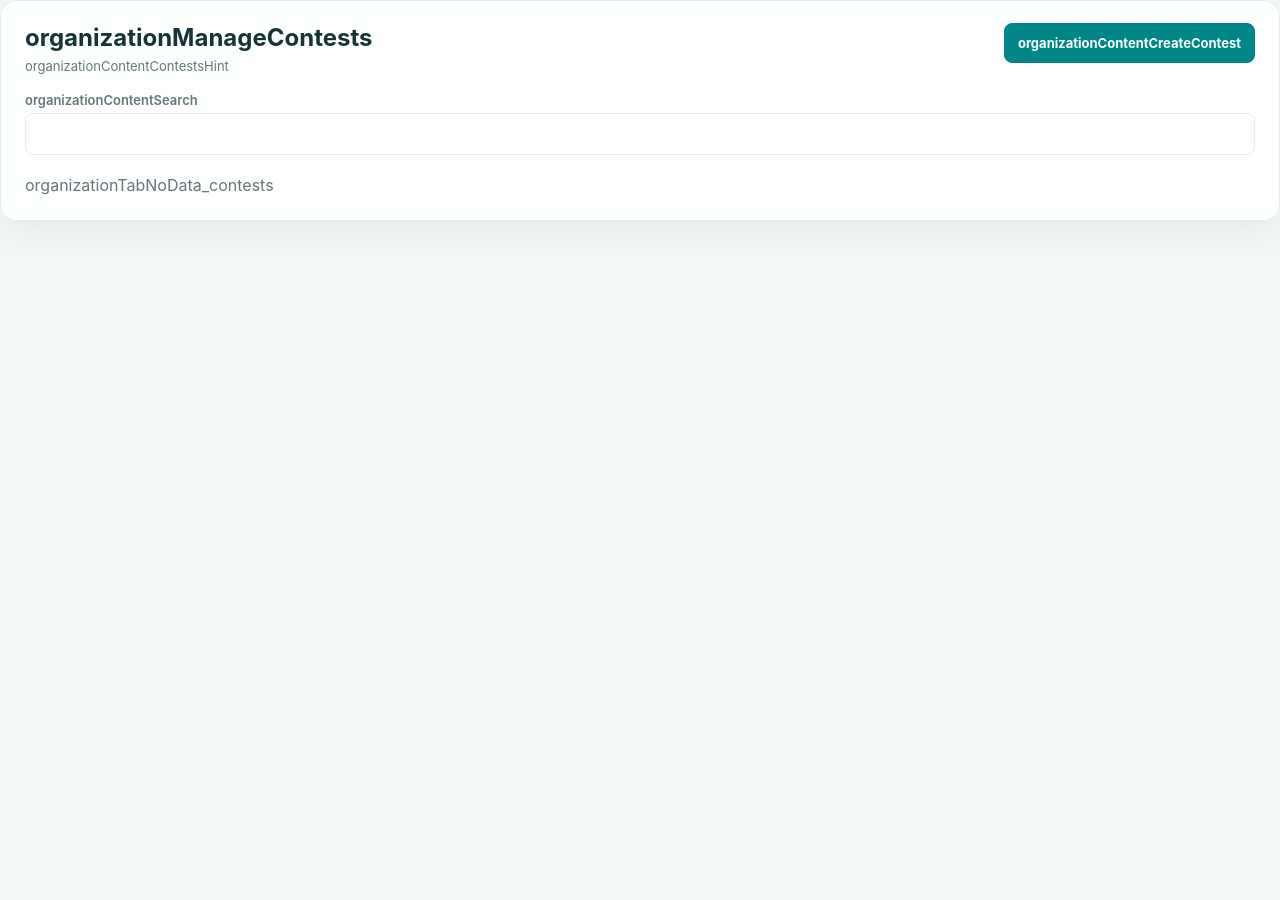
Test: OrganizationContentPanel create interactions › opens, cancels, and reopens the contest form when the organization has no contests
Click the button "organizationContentCreateContest": (1129, 43) top-left (1004, 23), bottom-right (1255, 63)
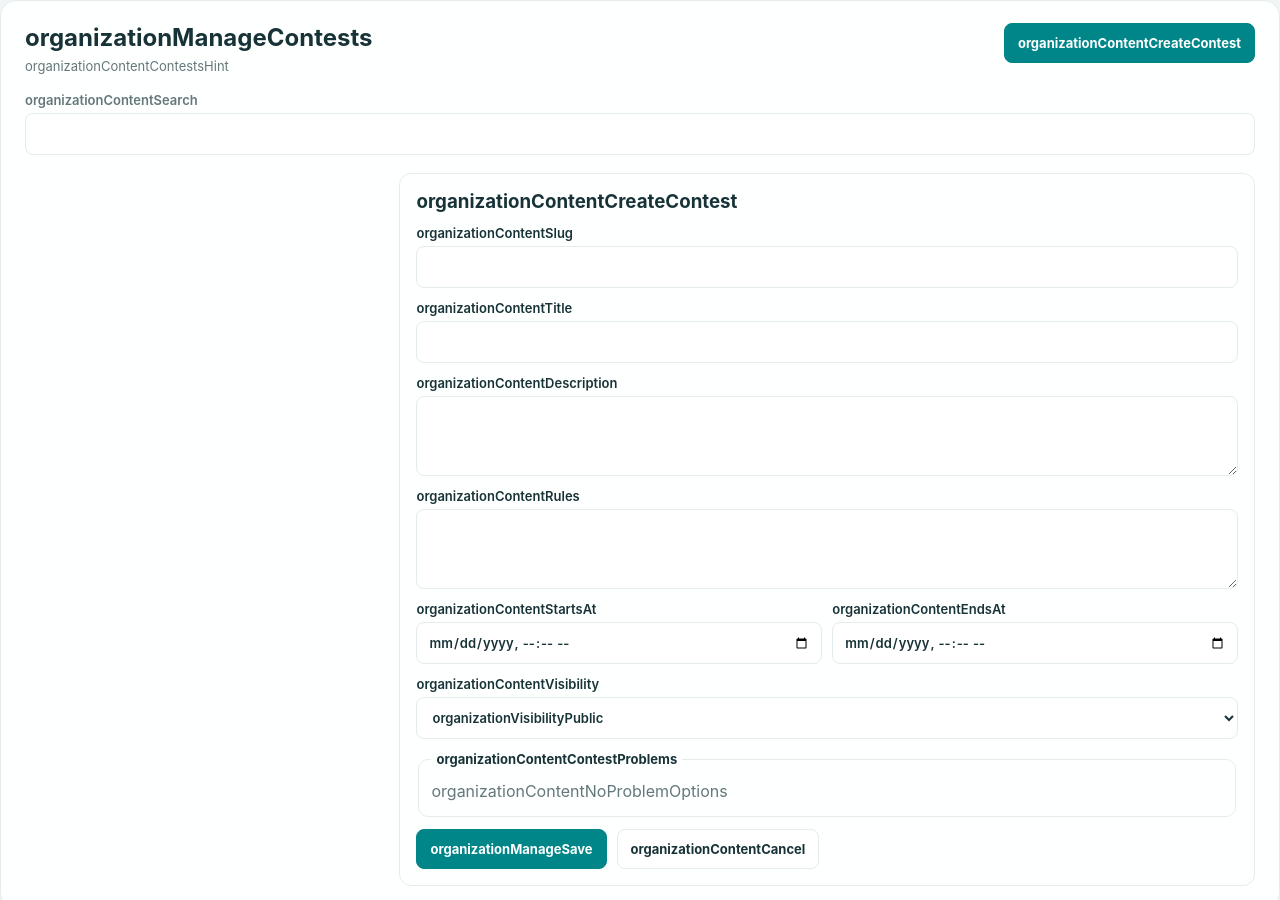
expect the form is shown: met, box top-left (416, 190), bottom-right (1238, 869)
expect the button "organizationContentCancel" is shown: met
Click the button "organizationContentCancel": (718, 849) top-left (616, 829), bottom-right (819, 869)
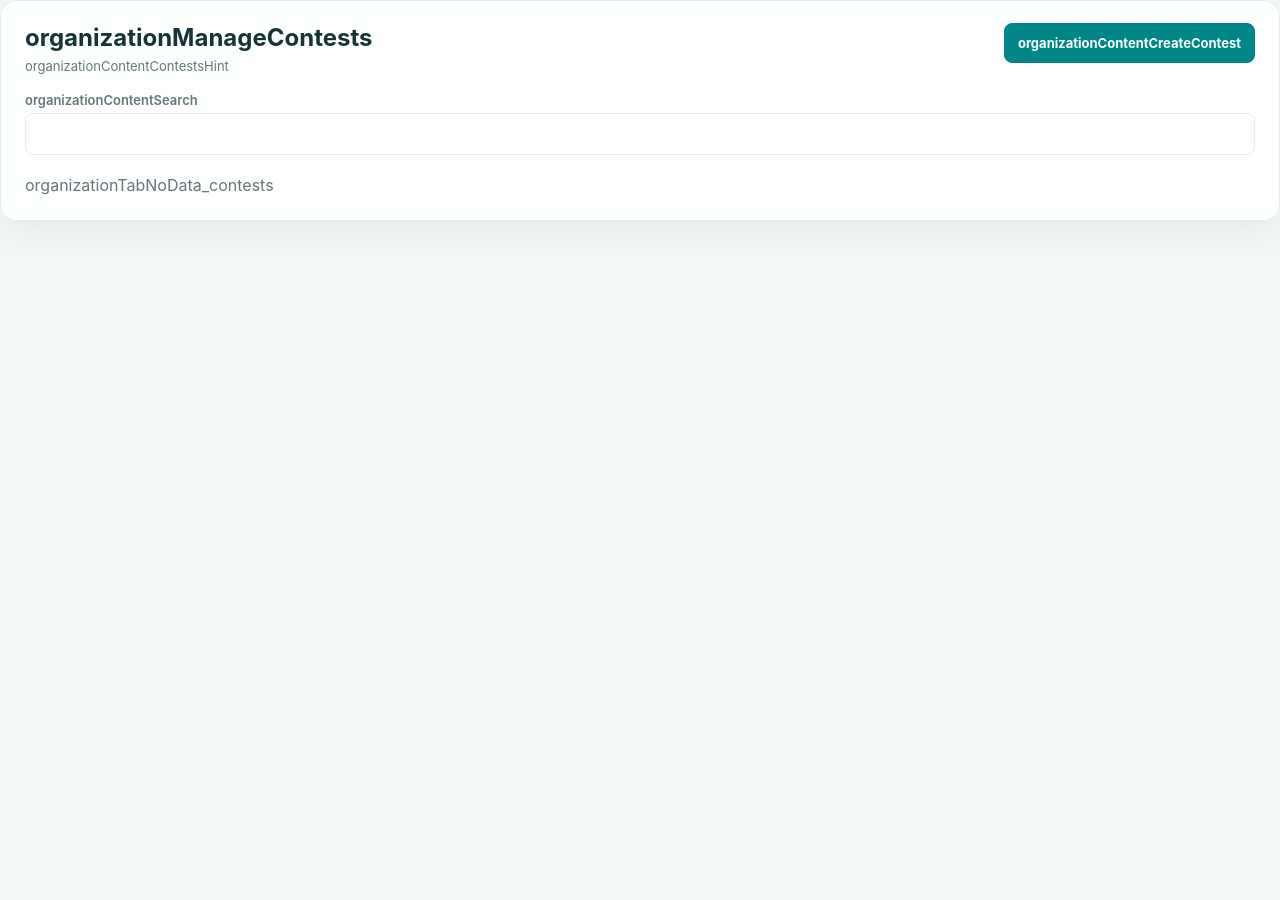
expect the text "organizationTabNoData_contests" is shown: met, box top-left (25, 175), bottom-right (274, 195)
Click the button "organizationContentCreateContest": (1129, 43) top-left (1004, 23), bottom-right (1255, 63)
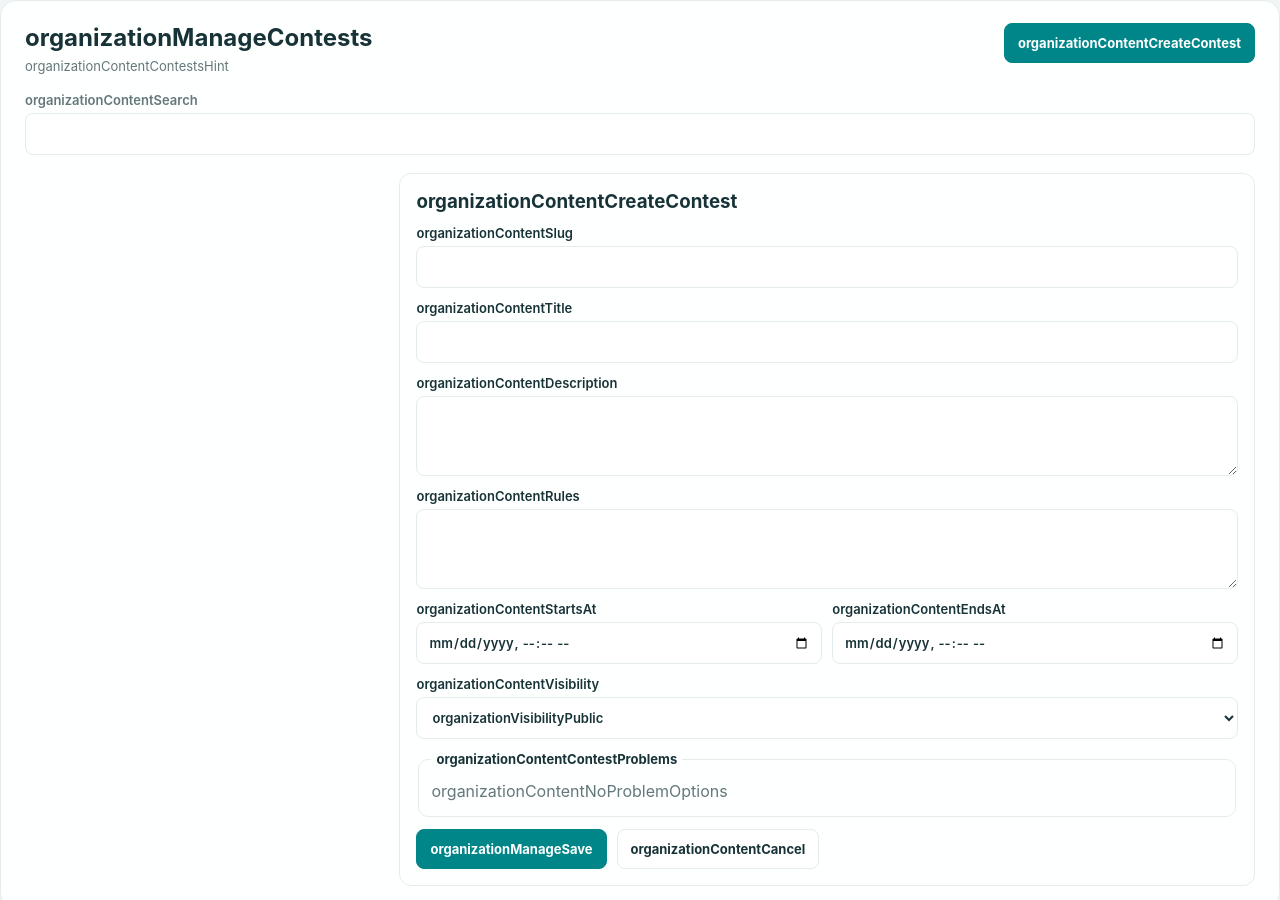
expect the form is shown: met, box top-left (416, 190), bottom-right (1238, 869)
